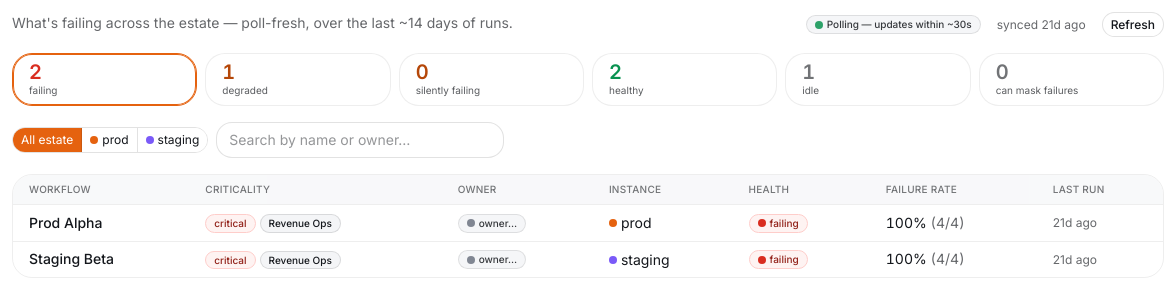
Test: Health view — UI-presence (rule 11) › consistency with Ownership — instance scope + search narrow the list; tiles stay estate-wide
Expected: the element with test id "health-scope" is shown, [12,127,208,153]
Expected: the search field with test id "health-search" is shown, [216,122,504,158]
// Scope to staging → only staging remains, BUT the failing tile still reads 2 (estate-wide).
Step 1. Click the button "staging" → click(172, 140), box [138,128,207,152]
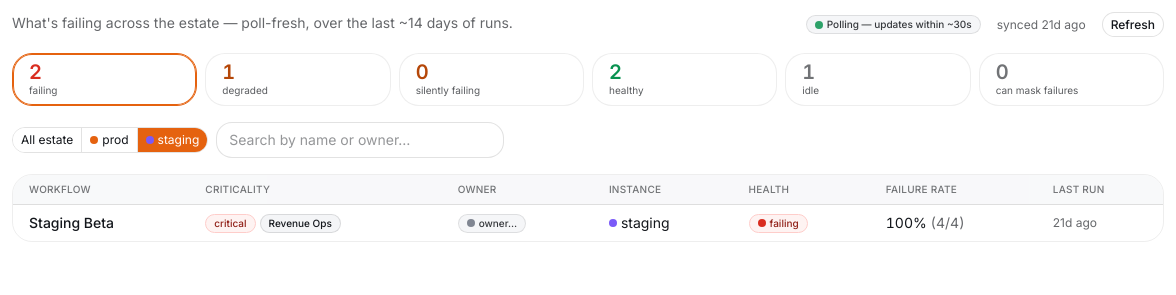
Expected: the text "Staging Beta" is shown, [13,205,189,241]
Result: the text "Prod Alpha" is gone
